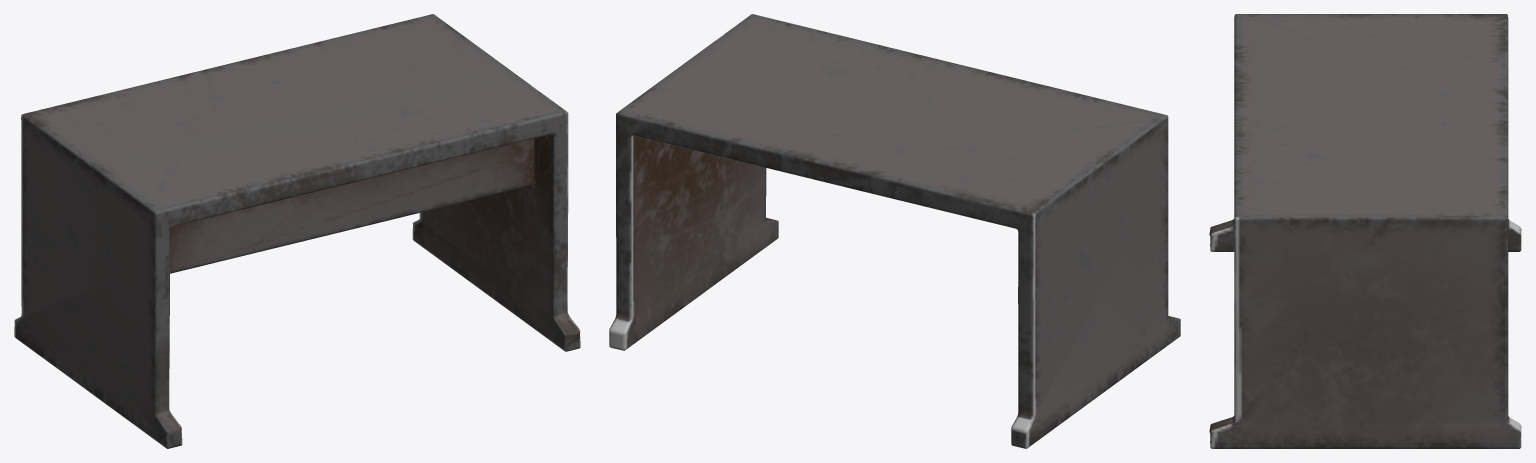
Rendered from MesaAtendimento_Adm_CENA.fbx.
3 renders of one model, left to right at view 1: azimuth 30°, elevation 25°; view 2: azimuth 150°, elevation 25°; view 3: azimuth 270°, elevation 25°, orthographic.
Parts seen in each view (by area): view 1: Cube.084; view 2: Cube.084; view 3: Cube.084.
Part boxes in pixels (x1,y1,x2,y2): Cube.084: (14,14,580,448); Cube.084: (609,14,1180,448); Cube.084: (1209,14,1521,448).
Size of the model in its own units: 154 by 80.75 by 98.73.
